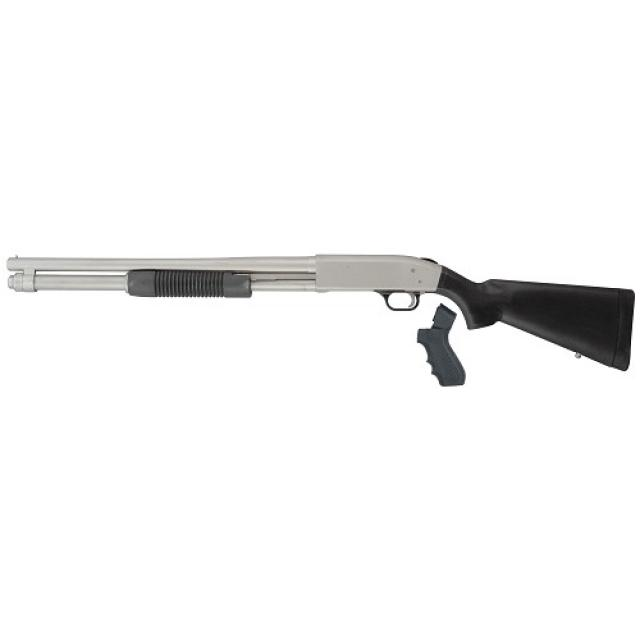ShotGun: (5, 255, 636, 372)
